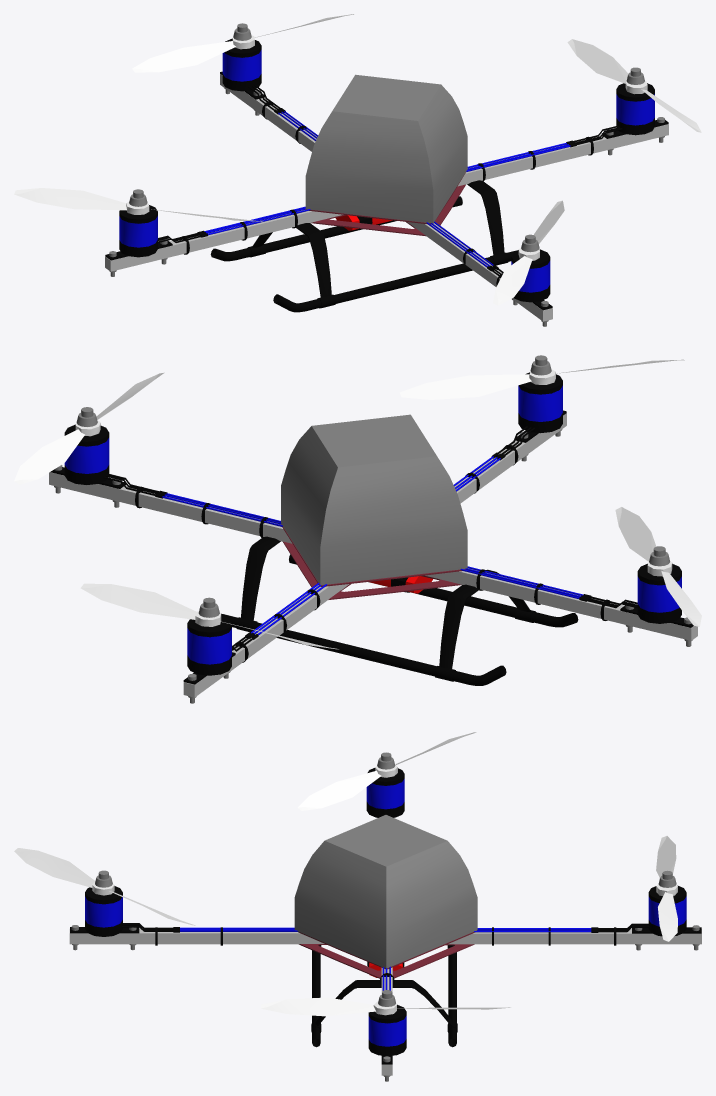
The model's file is quad.dae.
The picture shows the model from 3 angles, top to bottom: view 1: azimuth 30°, elevation 25°; view 2: azimuth 150°, elevation 25°; view 3: azimuth 270°, elevation 25°; orthographic projection. The views are drawn at different scales.
Parts seen in each view (by area): view 1: box (×5), Prop.Prop (×4), lSkidF, cylinder (×4), polyline; view 2: box (×5), Prop.Prop (×4), lSkidF, cylinder (×5), polyline; view 3: box (×3), Prop.Prop (×4), cylinder (×3), lSkidF, polyline.
Boxes of the visible parts, bbox=[...] form: box (×5): bbox=[105, 74, 668, 321]; Prop.Prop (×4): bbox=[14, 14, 701, 305]; lSkidF: bbox=[210, 180, 518, 312]; cylinder (×4): bbox=[119, 50, 654, 292]; polyline: bbox=[311, 184, 465, 236]; box (×5): bbox=[49, 413, 697, 697]; Prop.Prop (×4): bbox=[14, 359, 701, 649]; lSkidF: bbox=[221, 536, 578, 685]; cylinder (×5): bbox=[64, 385, 681, 664]; polyline: bbox=[283, 541, 461, 599]; box (×3): bbox=[69, 815, 701, 968]; Prop.Prop (×4): bbox=[14, 732, 677, 1016]; cylinder (×3): bbox=[85, 779, 406, 1046]; lSkidF: bbox=[311, 945, 457, 1047]; polyline: bbox=[299, 944, 474, 978].
Bounding box in the file's own units: 0.832 × 0.2084 × 0.8342.
